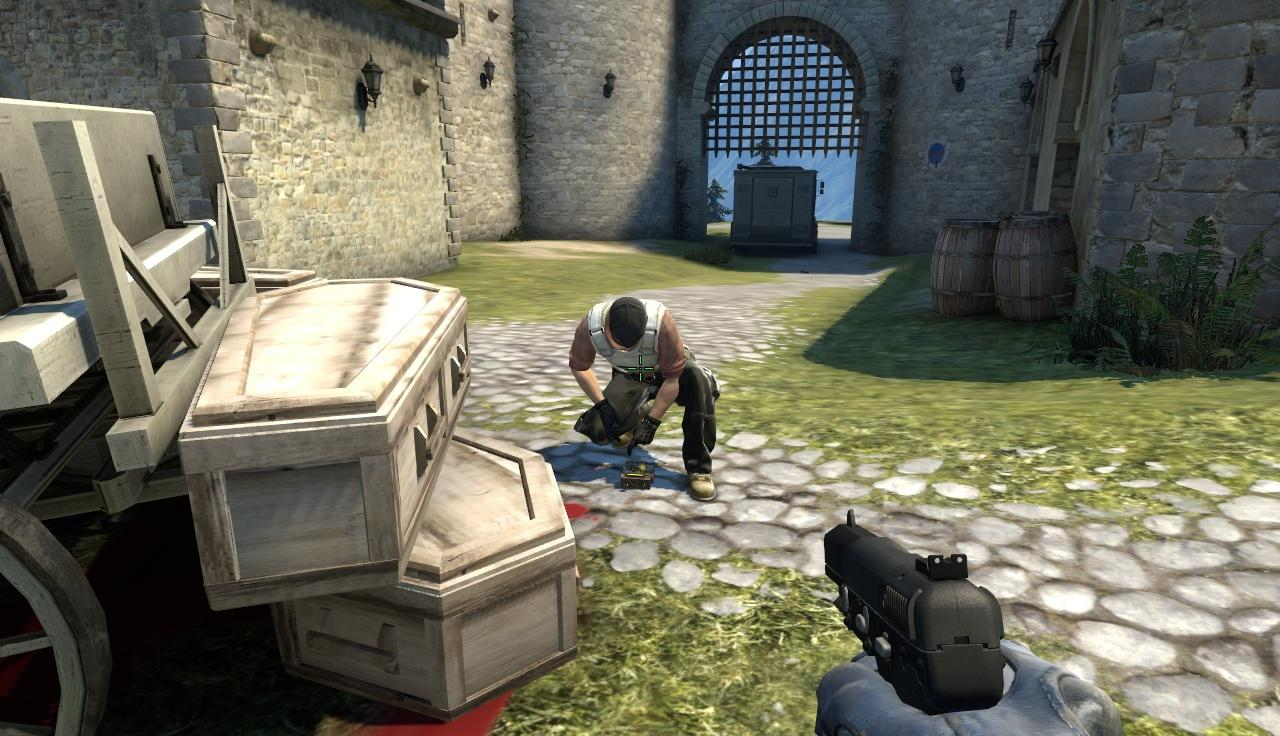pistol: (815, 512, 1080, 736)
tt: (571, 297, 701, 492)
tthead: (609, 298, 649, 344)
